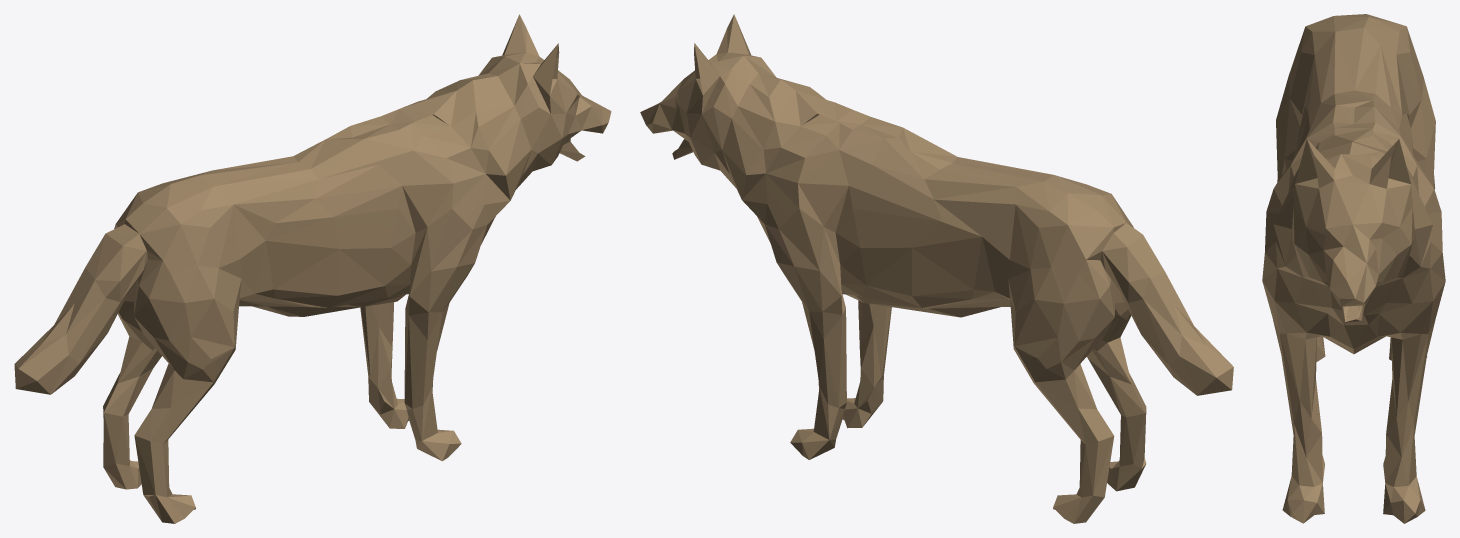
The model's file is Wolf.fbx.
3 renders of one model, left to right at view 1: azimuth 30°, elevation 25°; view 2: azimuth 150°, elevation 25°; view 3: azimuth 270°, elevation 25°, orthographic. The views are drawn at different scales.
Parts seen in each view (by area): view 1: grp1; view 2: grp1; view 3: grp1.
Part boxes in pixels (x1,y1,x2,y2): grp1: (14, 14, 611, 523); grp1: (640, 14, 1233, 523); grp1: (1262, 14, 1445, 523).
Size of the model in its own units: 171 by 105 by 39.18.
